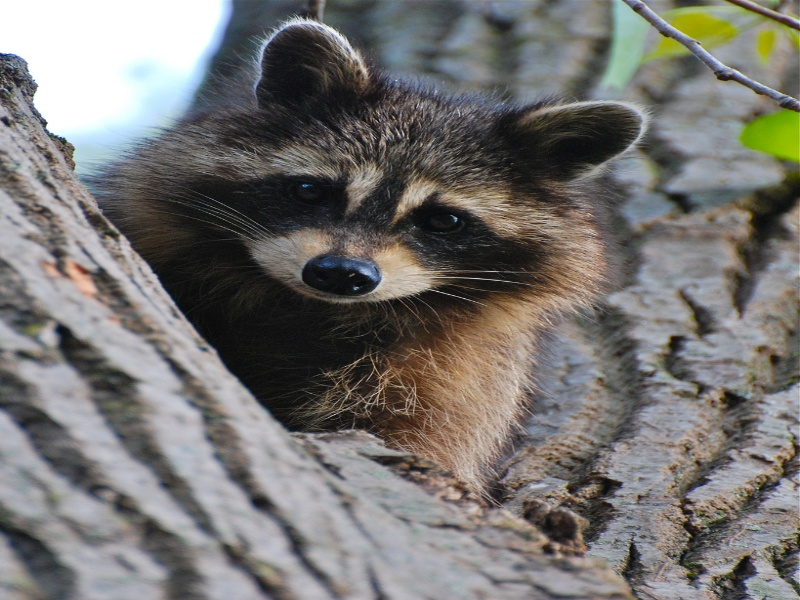raccoon: (64, 18, 655, 495)
